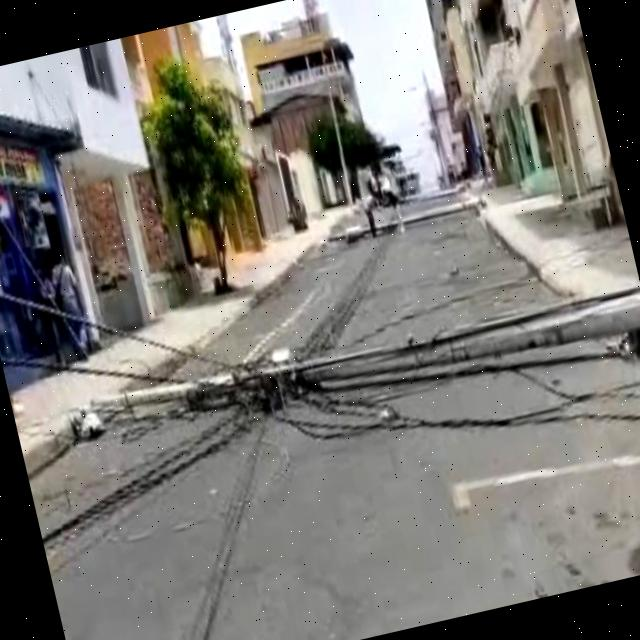Broken Pole: (80, 290, 640, 443)
